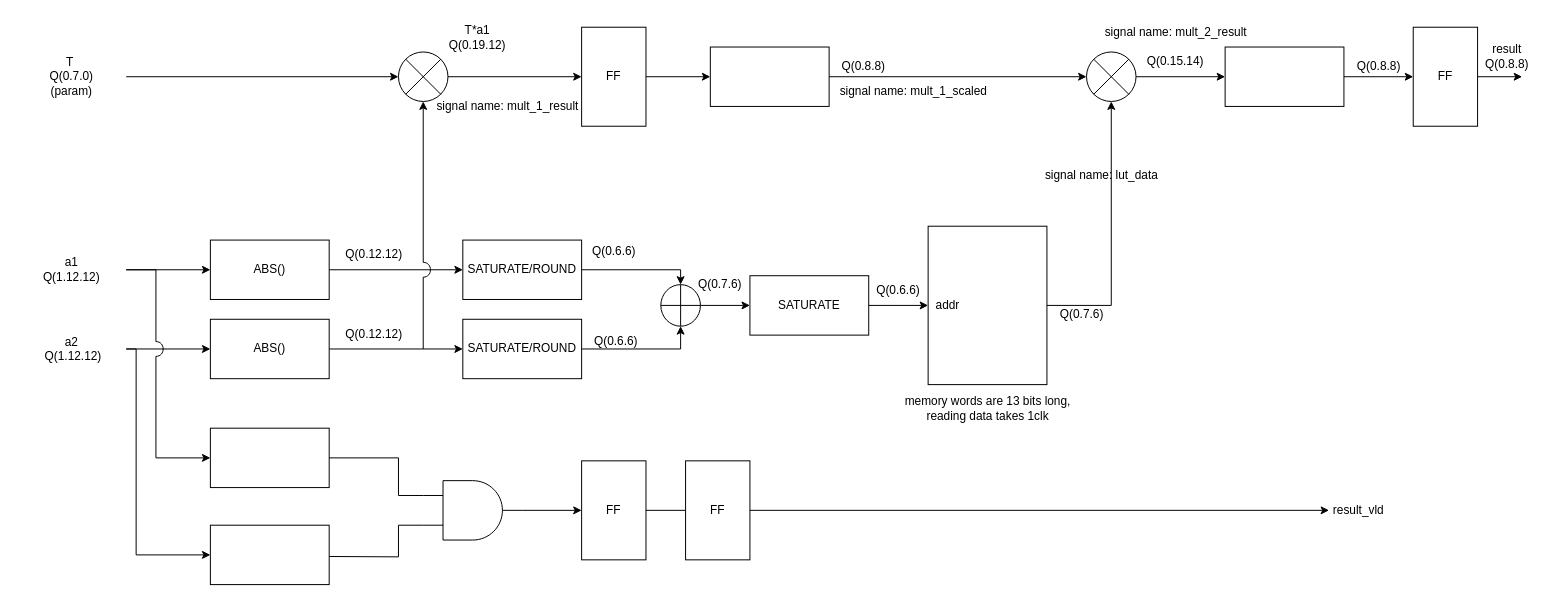
Image size: 1553x602. Some labels were removed from this diagram. Here are the shapes that lost their labels. From the top down, the box of each, then its label:
(709, 46, 829, 106): SAT & TRUNC
(1224, 46, 1344, 106): SAT & ROUND
(927, 225, 1047, 385): 8kB LUT 1/a
(209, 427, 329, 488): a1 < 0
(209, 524, 329, 585): a2 > 0
